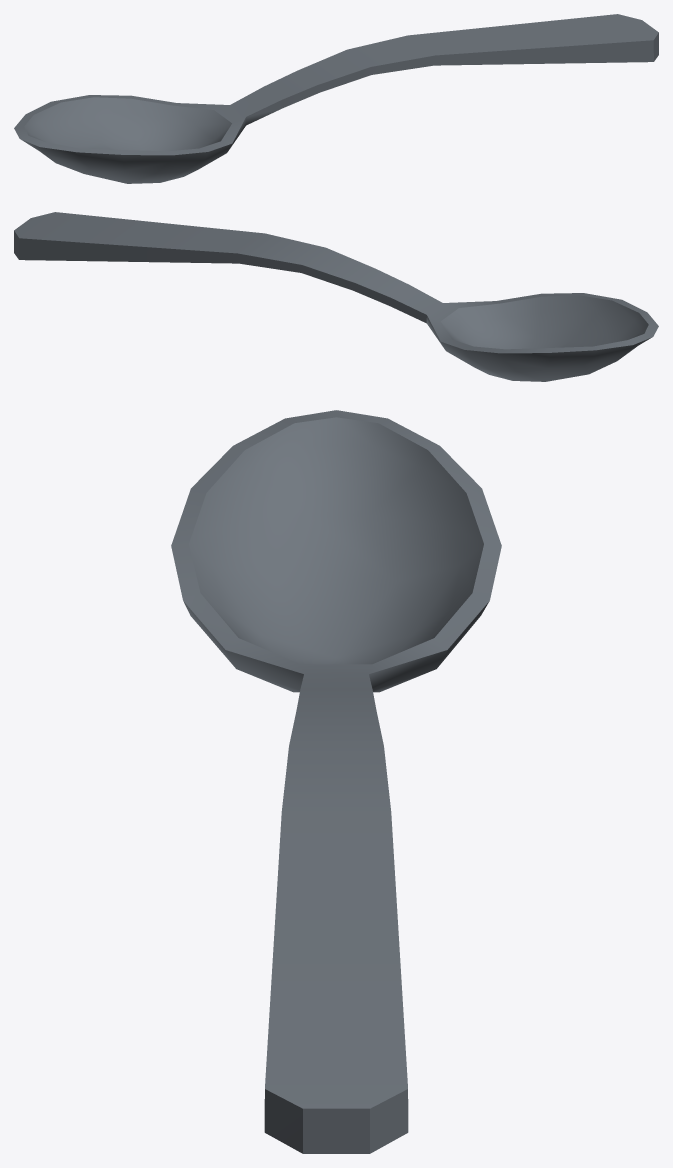
File: SM_Props_Food_04.fbx
3 views of the same model, one above another, from view 1: azimuth 30°, elevation 25°; view 2: azimuth 150°, elevation 25°; view 3: azimuth 270°, elevation 25° (orthographic). The views are drawn at different scales.
Visible parts, largest first — view 1: SM_Props_Food_04; view 2: SM_Props_Food_04; view 3: SM_Props_Food_04.
Boxes of the visible parts, left/top/right/bottom form: SM_Props_Food_04: left=14, top=14, right=658, bottom=183; SM_Props_Food_04: left=14, top=212, right=658, bottom=381; SM_Props_Food_04: left=171, top=410, right=501, bottom=1153.
Size of the model in its own units: 0.1343 by 0.0132 by 0.0305.
